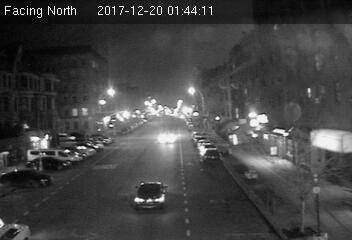car: (134, 180, 168, 212)
